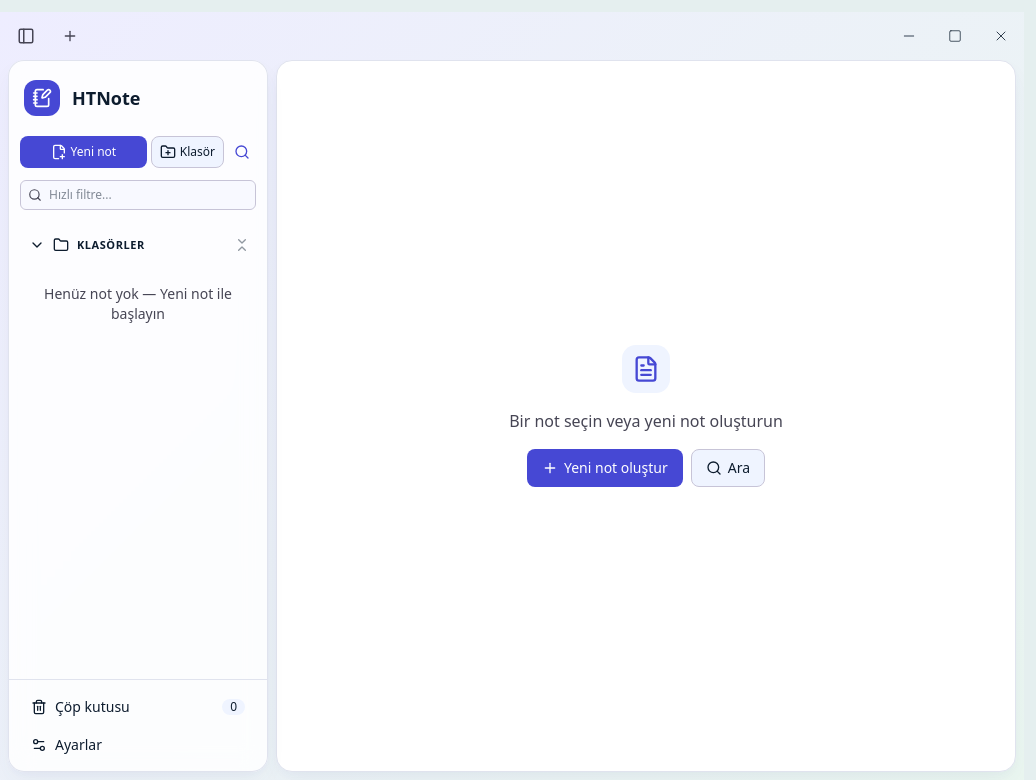
Test case: App › opens, activates and toggles settings and trash as tabs with sidebar highlights
This screenshot has width=1036, height=780.
Click the button "Ayarlar".
click(138, 745)  # box [16, 726, 260, 764]
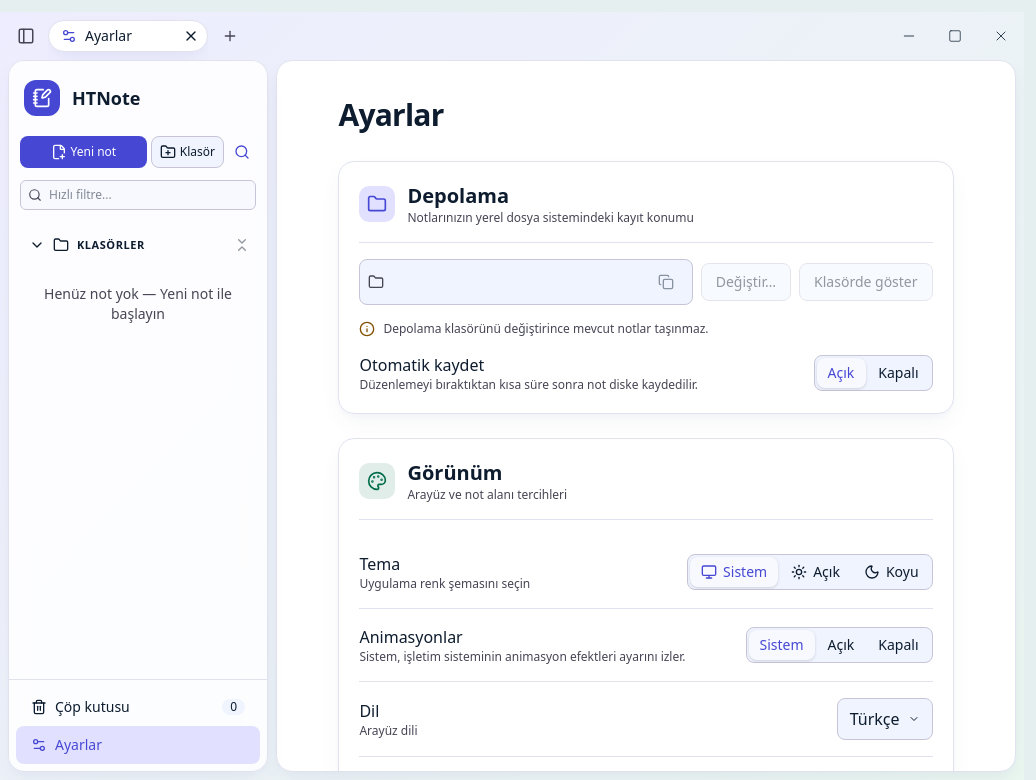
Result: the button "Ayarlar" is pressed at [16, 726, 260, 764]
Click the button with test id "trash".
click(138, 707)  # box [16, 688, 260, 726]
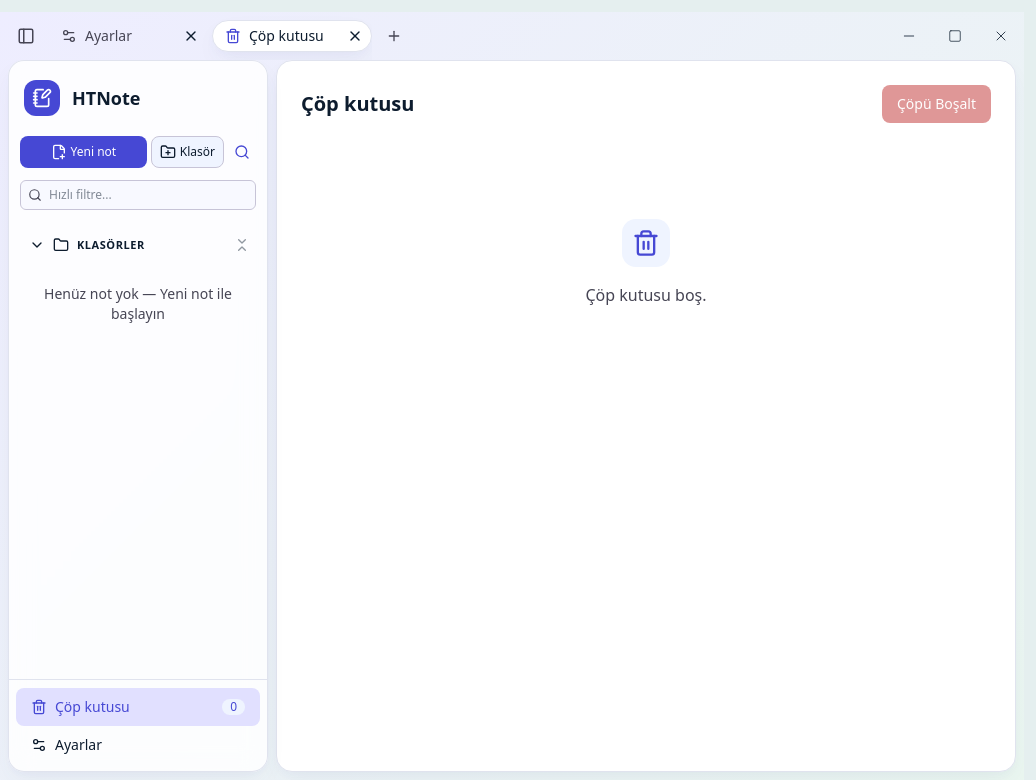
Result: the button with test id "trash" is pressed at [16, 688, 260, 726]
Result: the button "Ayarlar" is not pressed
Click the button "Ayarlar".
click(138, 745)  # box [16, 726, 260, 764]
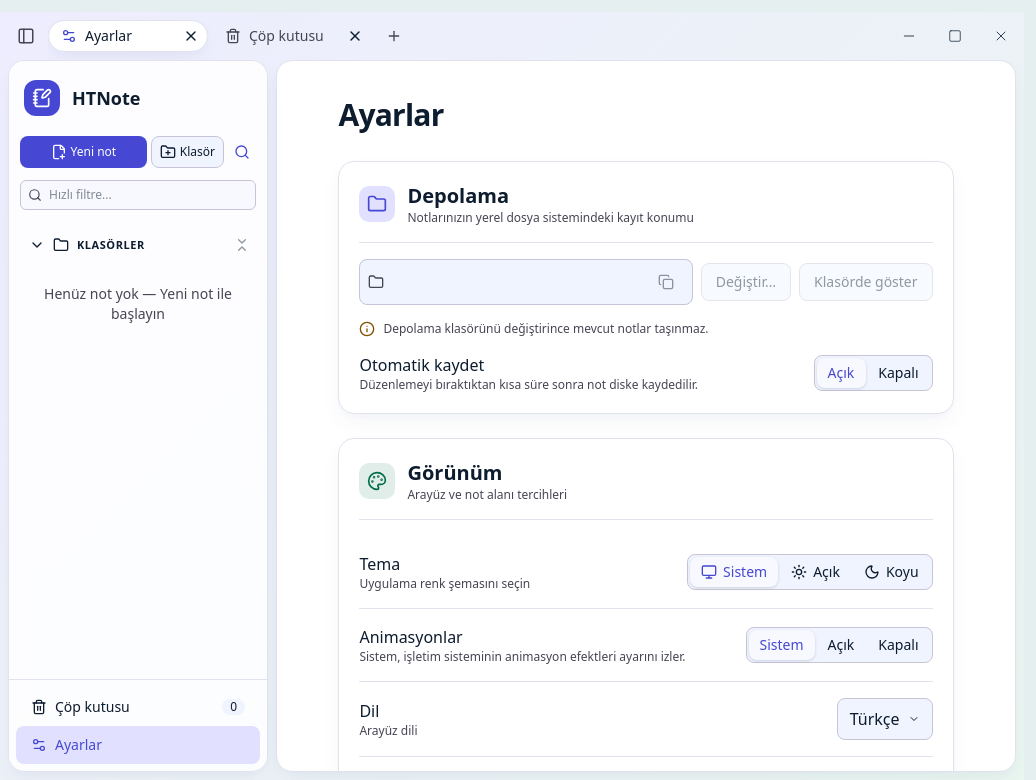
Result: the number of tabs is 2 at [48, 20, 208, 52]; [212, 20, 372, 52]
Result: the heading "Ayarlar" is shown at [338, 94, 444, 135]
Click the button "Ayarlar".
click(138, 745)  # box [16, 726, 260, 764]
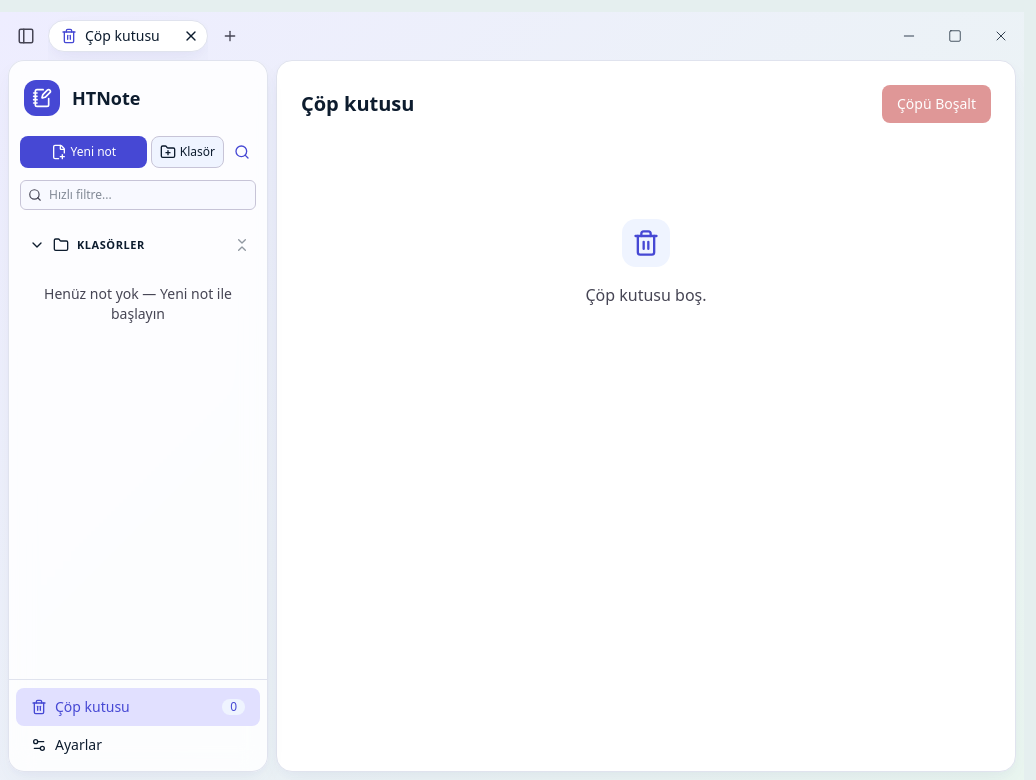
Result: the button with test id "trash" is pressed
Click the button with test id "trash".
click(138, 707)  # box [16, 688, 260, 726]
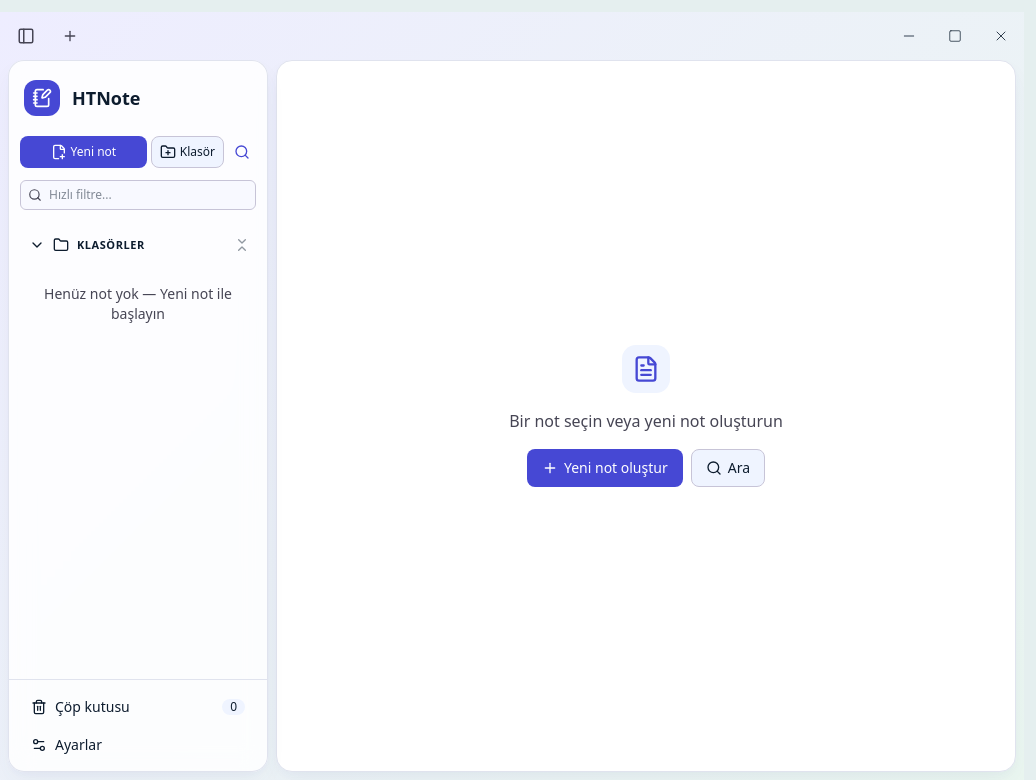
Result: the tab is gone
Result: the text "Bir not seçin veya yeni not oluşturun" is shown at [509, 409, 783, 433]
